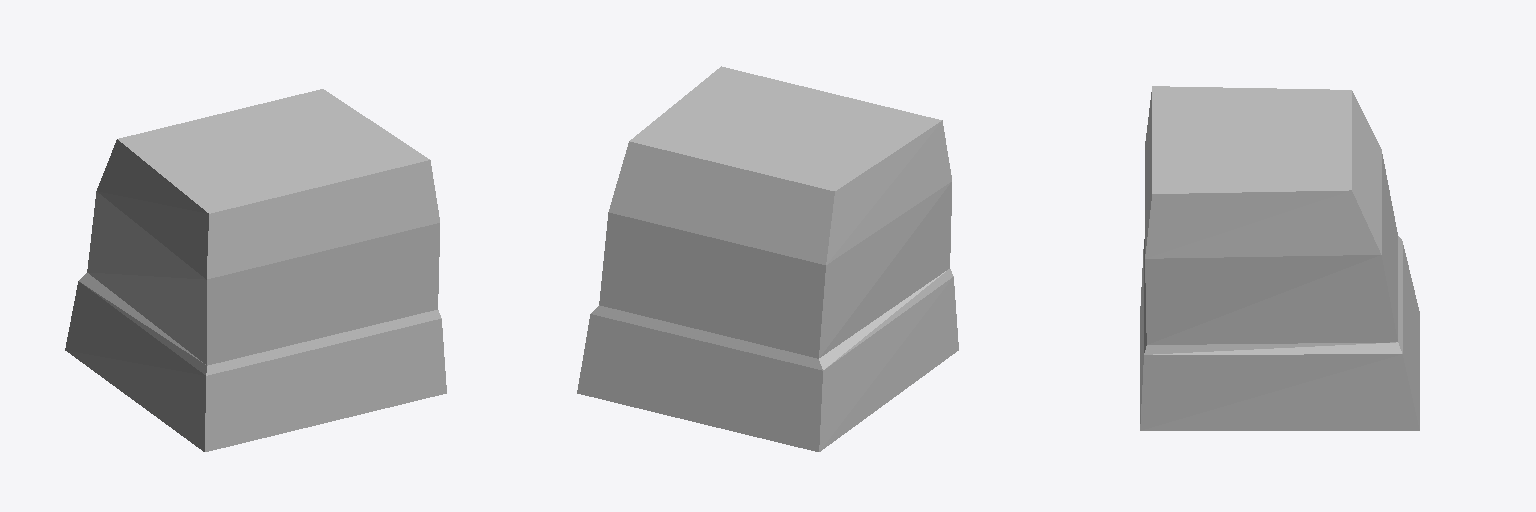
The model's file is one2.obj.
3 renders of one model, left to right at view 1: azimuth 30°, elevation 25°; view 2: azimuth 150°, elevation 25°; view 3: azimuth 270°, elevation 25°, orthographic.
Bounding box in the file's own units: 1.09 × 1 × 1.09.